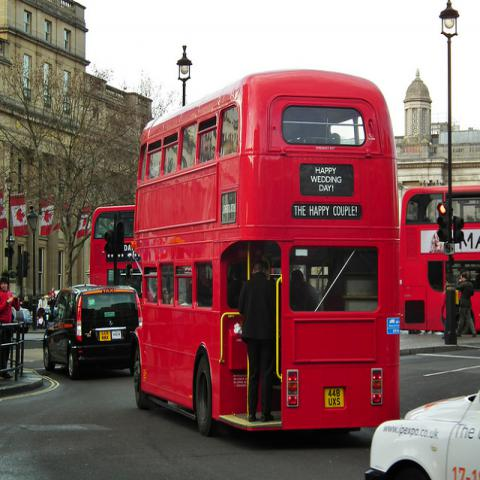bus: (131, 71, 400, 442), (400, 182, 479, 338), (89, 204, 135, 287)
car: (366, 387, 479, 479), (36, 286, 142, 380)
